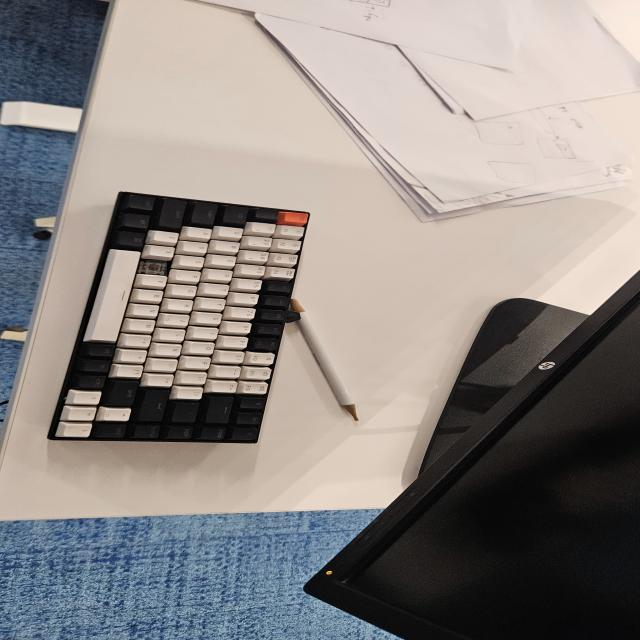C: (146, 260, 167, 276)
